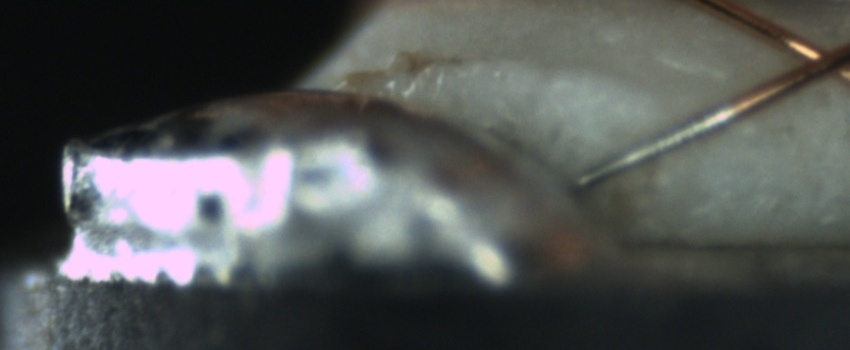CL: (779, 27, 850, 90)
TS: (573, 103, 737, 190)
